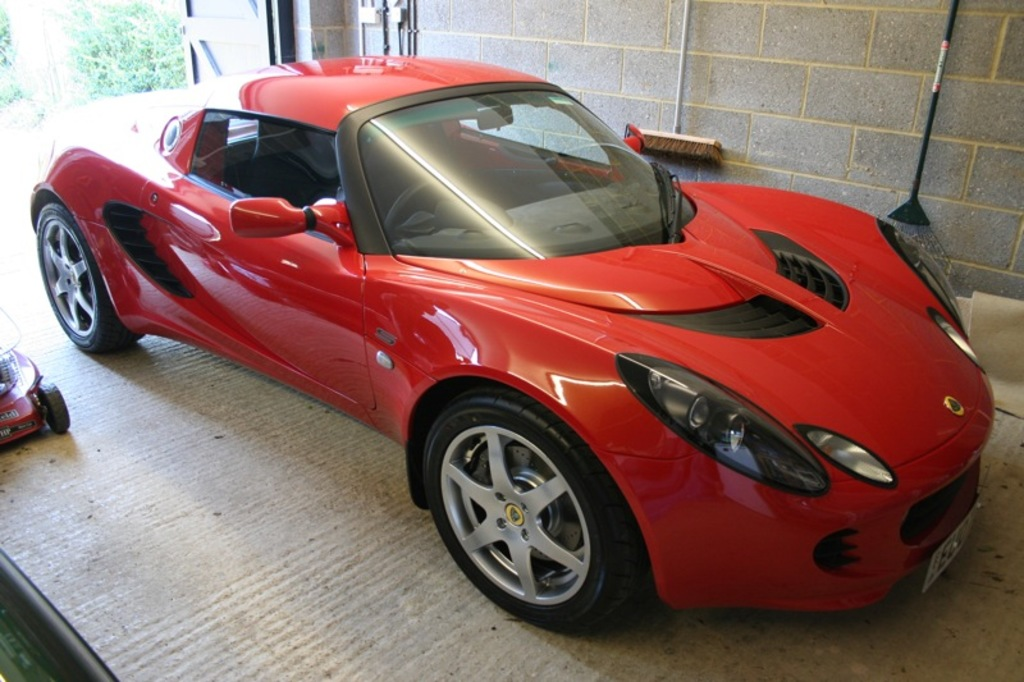Car: (29, 57, 995, 633)
